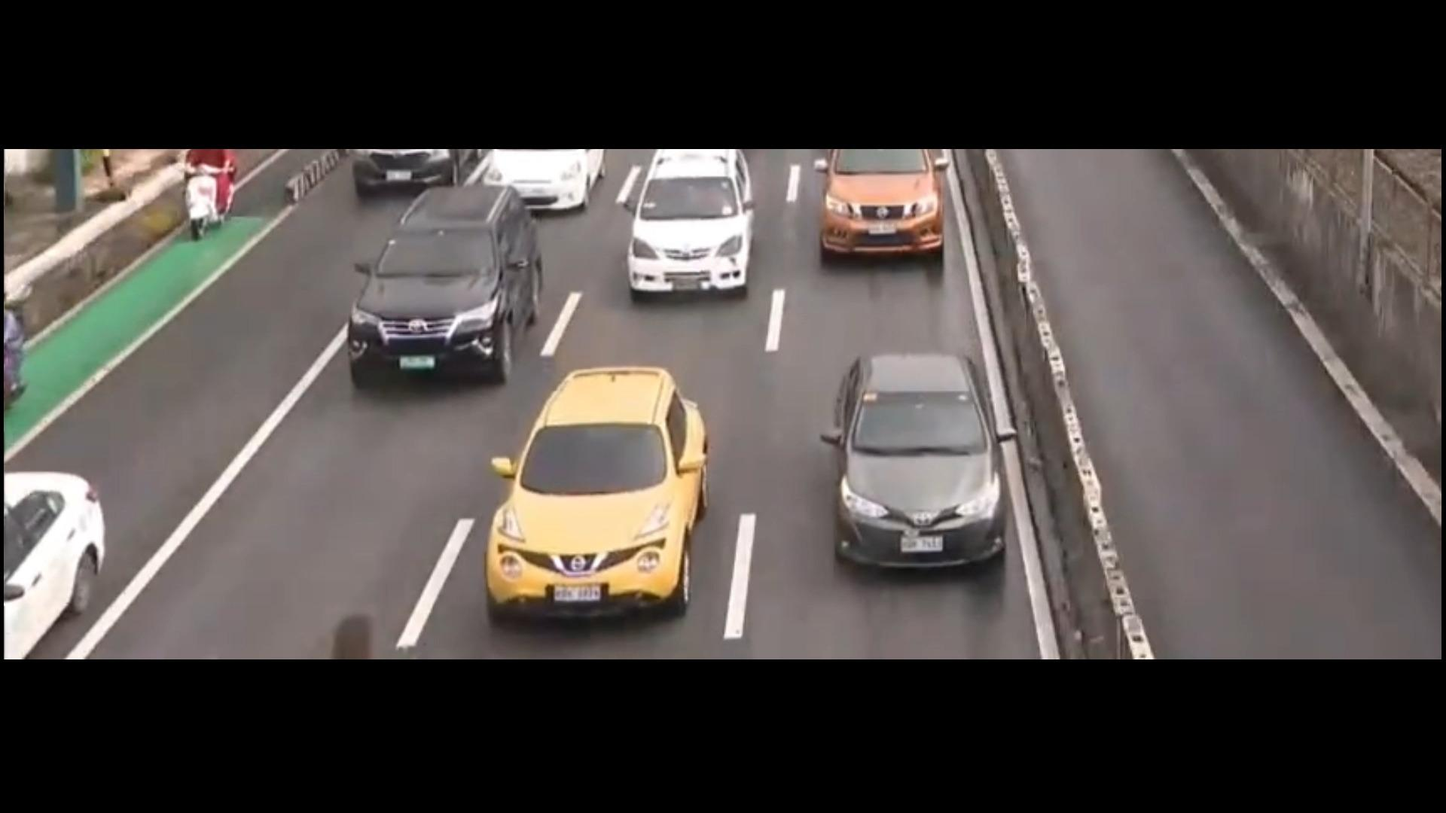SUV: (347, 184, 541, 389)
Sedan: (476, 365, 709, 625), (830, 351, 1013, 578), (0, 459, 120, 660), (619, 146, 758, 300), (817, 146, 952, 261)
